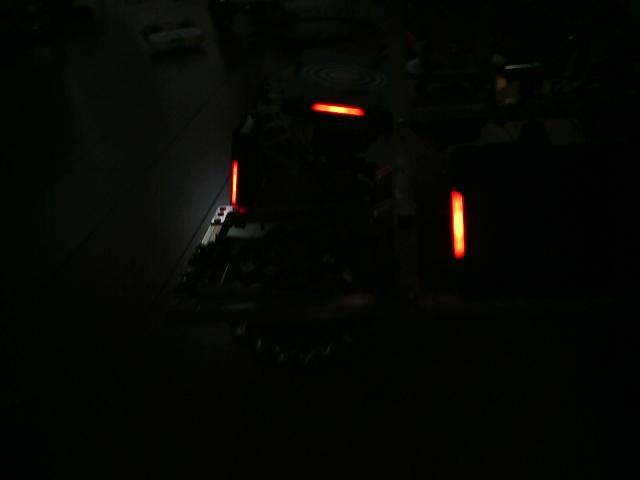lamp: (448, 187, 469, 264), (227, 160, 242, 208)
